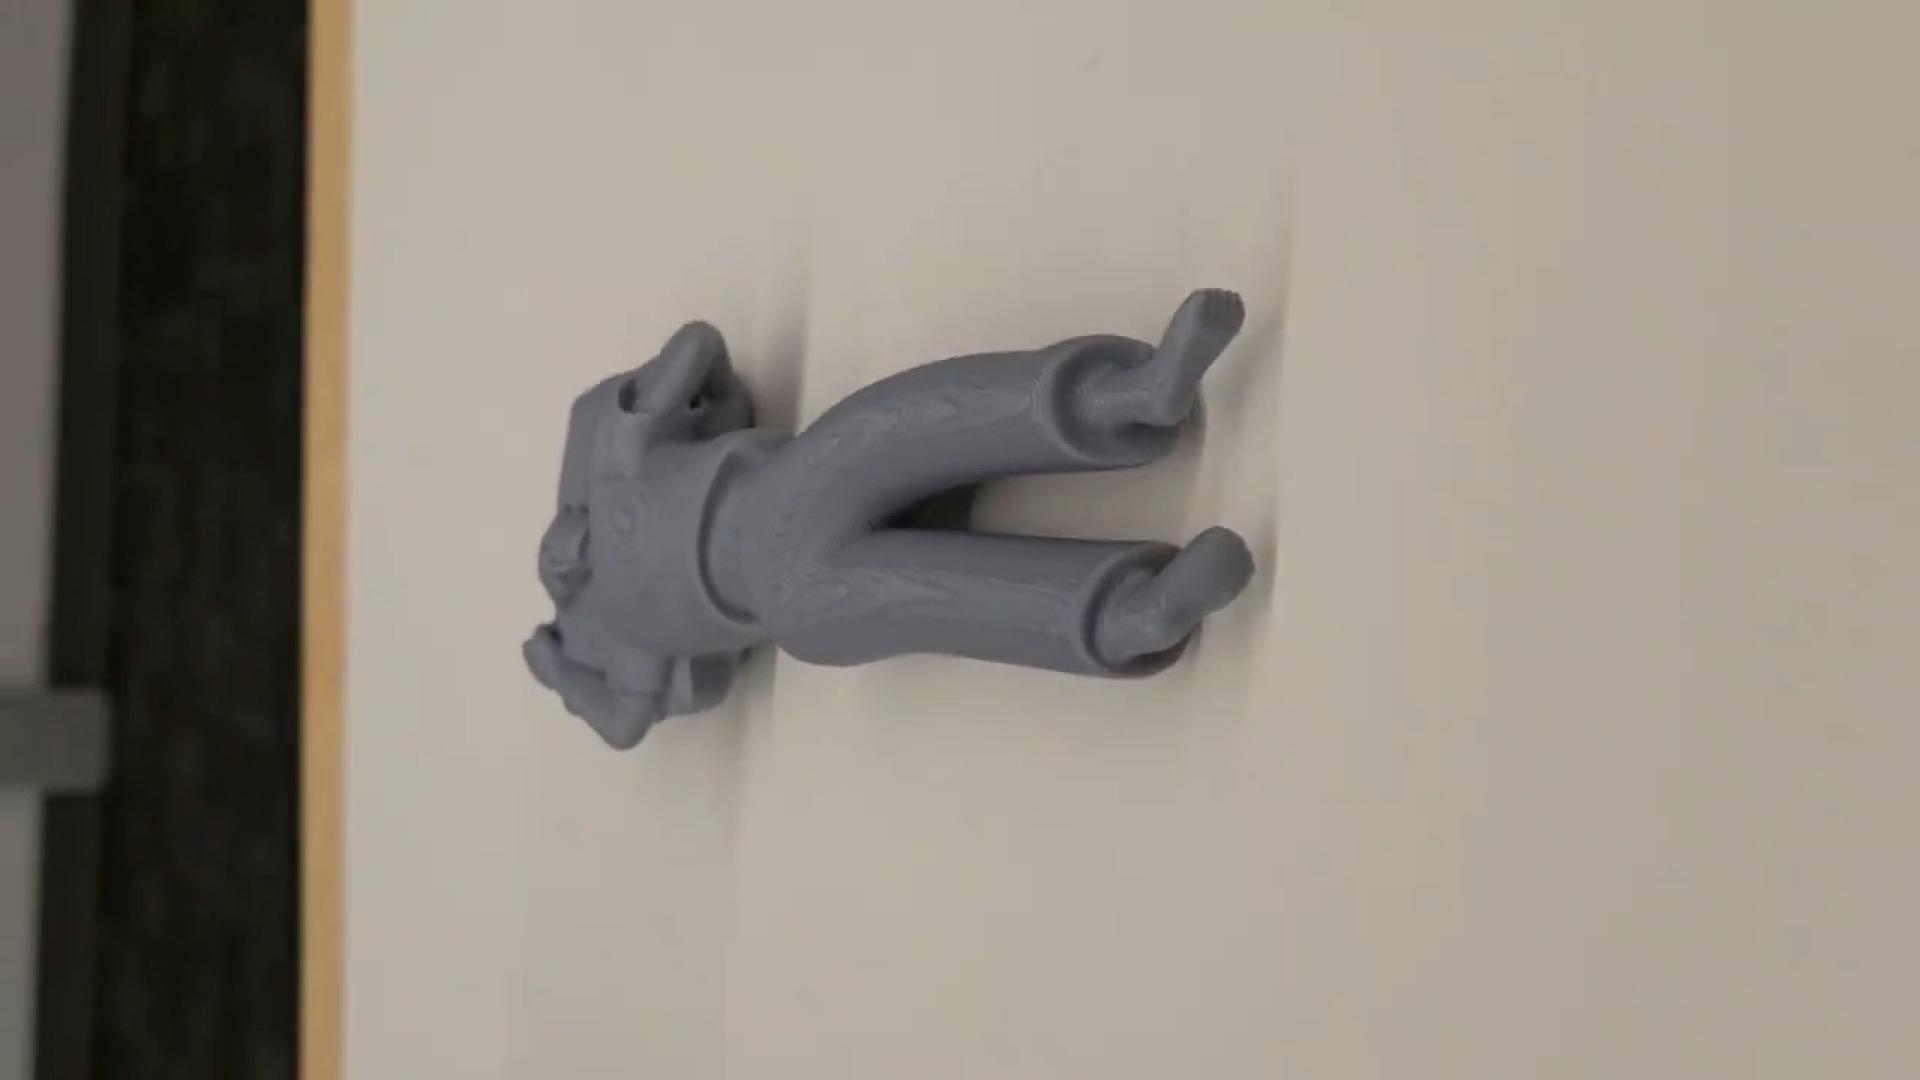Bad-style: (516, 270, 1258, 752)
